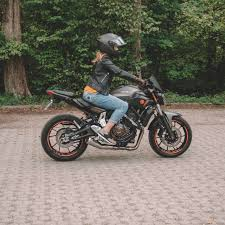moto: (40, 80, 195, 161)
person: (86, 29, 129, 120)
